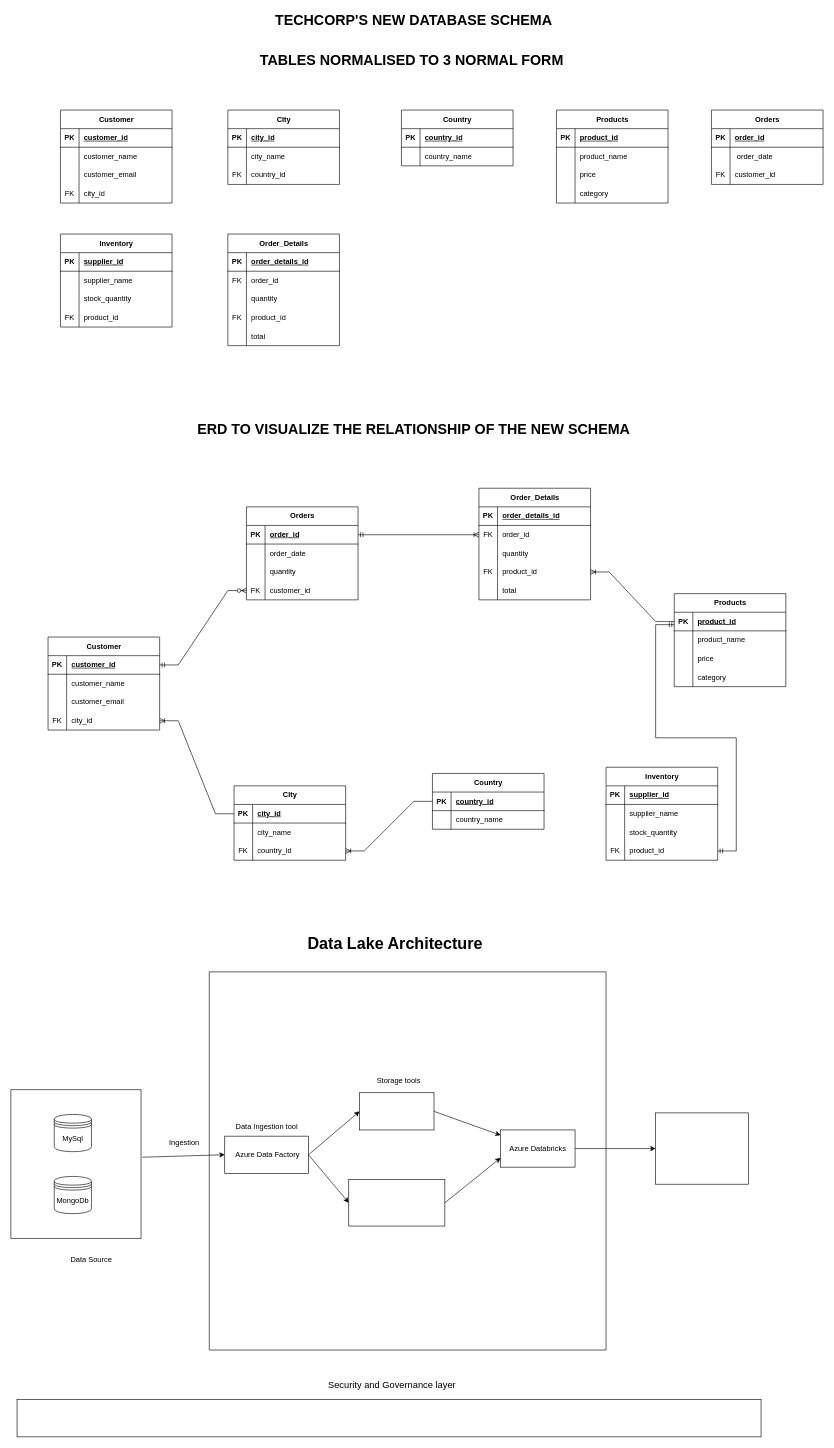
Some shapes in this 834 by 1448 pixel diagram are drawn without their labels. Each missing label, with the box of its shape:
Azure Active Directory: (16, 1399, 761, 1437)
Azure Data Lake Storage Gen2: (359, 1092, 434, 1130)
Azure SQL Database (storing structured data): (348, 1179, 445, 1226)
Azure Synapse Analytics ( Power BI Integration): (655, 1112, 749, 1184)
